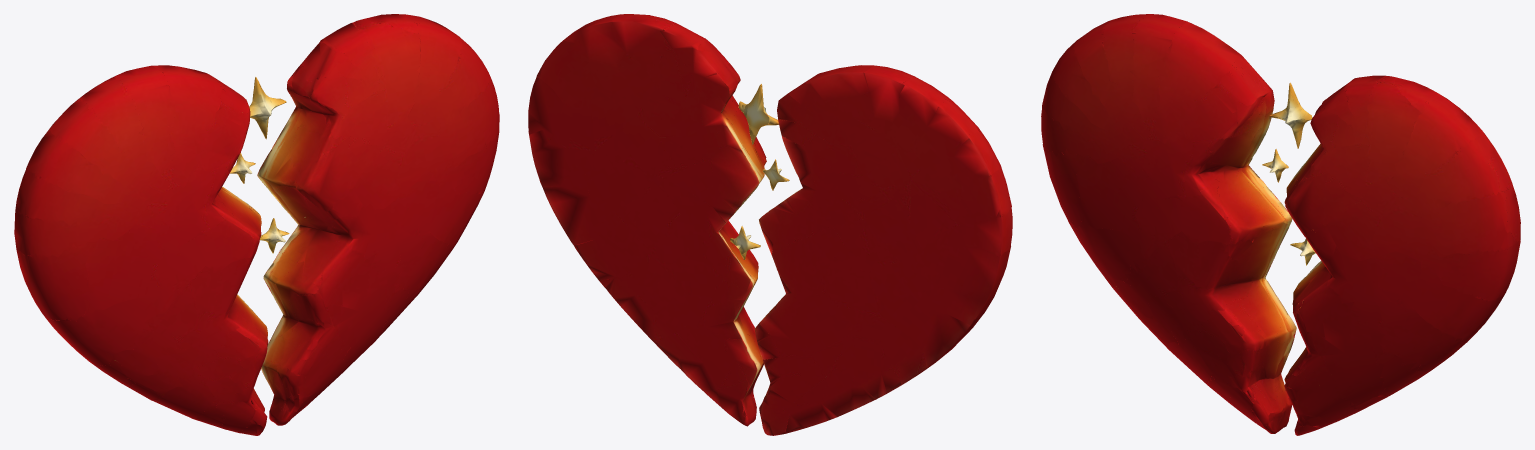
File: heart.glb
The picture shows the model from 3 angles, left to right: view 1: azimuth 30°, elevation 25°; view 2: azimuth 150°, elevation 25°; view 3: azimuth 330°, elevation 25°; orthographic projection.
Visible parts, largest first — view 1: left, right; view 2: left, right; view 3: left, right.
Boxes of the visible parts, x1,y1,x2,y2 form: left: [14, 65, 268, 435]; right: [250, 14, 499, 425]; left: [759, 65, 1012, 435]; right: [528, 14, 779, 426]; left: [1041, 14, 1289, 433]; right: [1270, 75, 1520, 435].
Bounding box in the file's own units: 0.55 × 0.4301 × 0.0643.
1 material, 1 textured.
